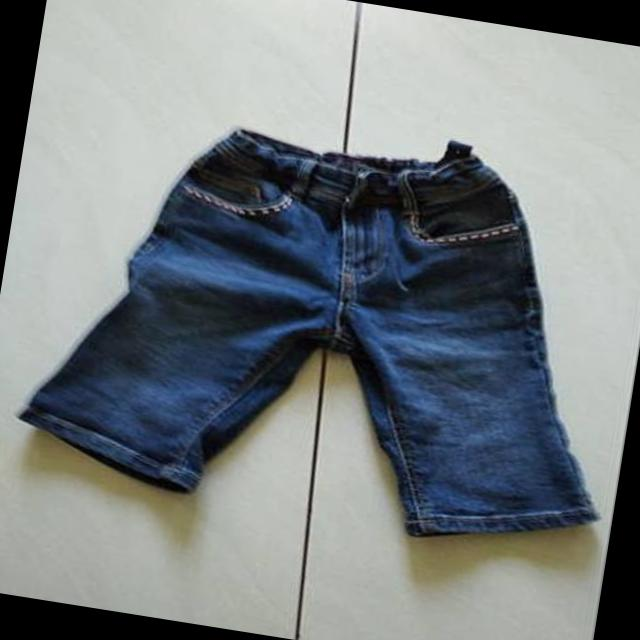SHORT: (5, 69, 640, 576)
